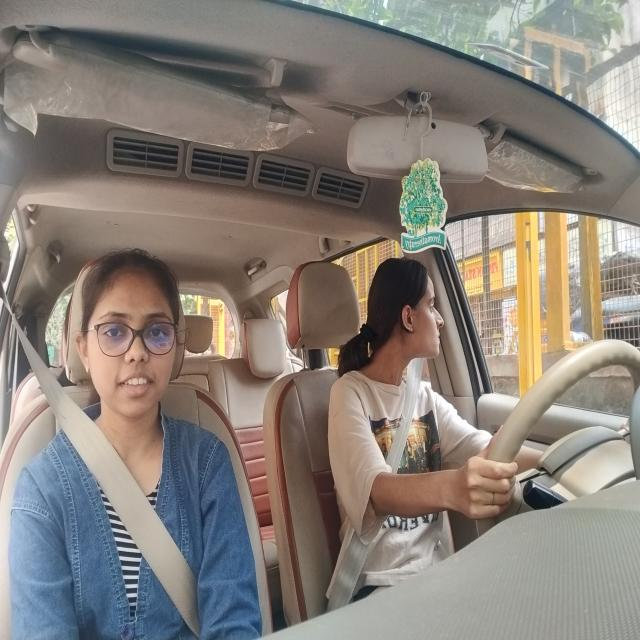LeftRight: (367, 255, 449, 374)
person: (77, 246, 186, 414)
